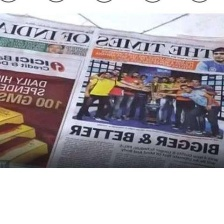news_paper: (0, 10, 224, 169)
